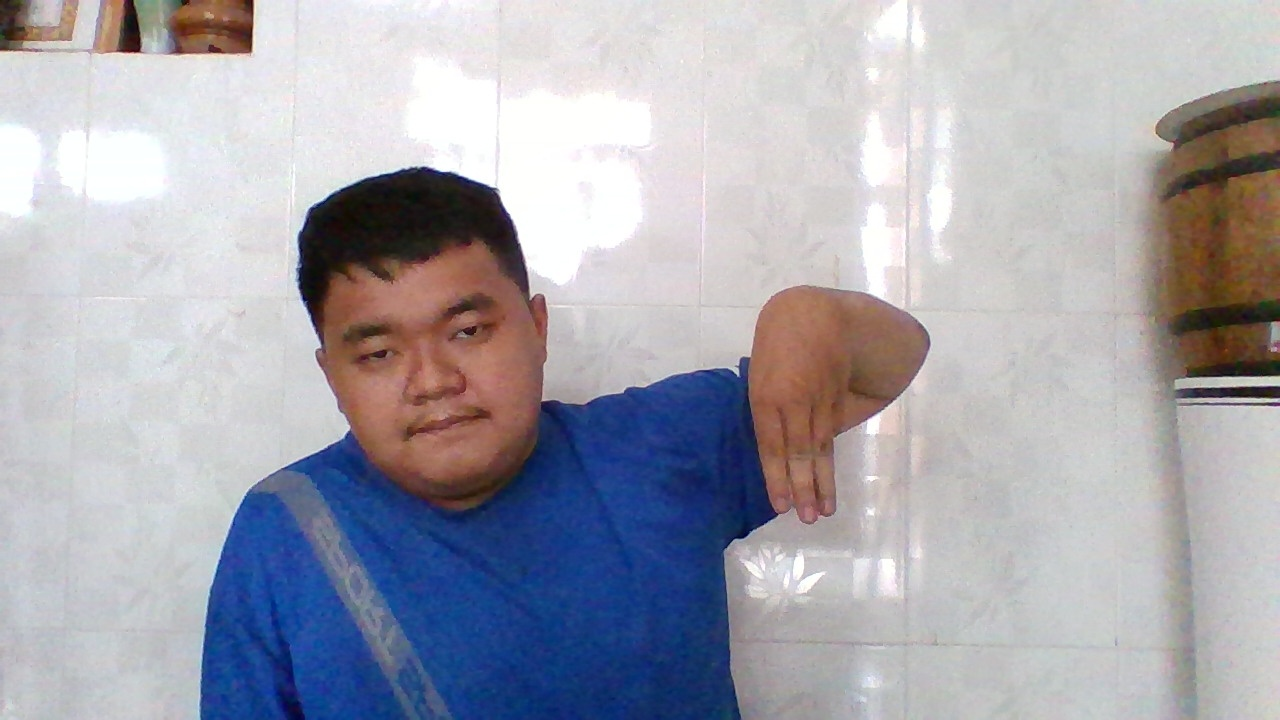M: (743, 293, 855, 532)
